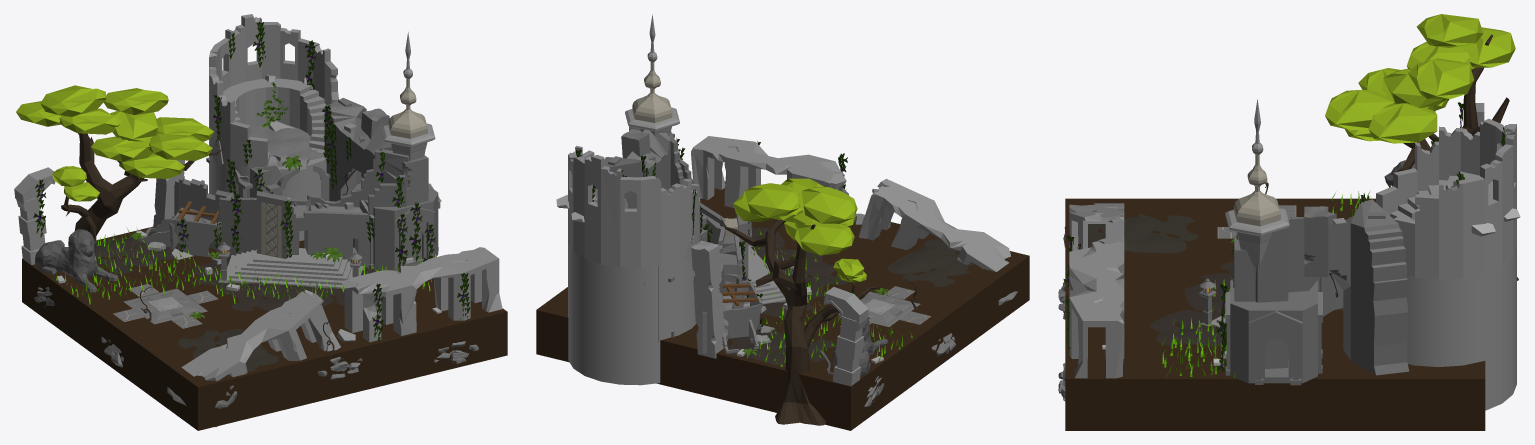
The model's file is Ruins.fbx.
3 views of the same model, side by side, from view 1: azimuth 30°, elevation 25°; view 2: azimuth 150°, elevation 25°; view 3: azimuth 270°, elevation 25° (orthographic). The views are drawn at different scales.
Visible parts, largest first — view 1: Cube, Prop_Ruins_Building_Fort_Chunk_Large_Stone_01, Prop_Ruins_Building_Tower_Stairs_Stone_01, Prop_Ruins_Bridge_Stone_01, Prop_Ruins_Bridge_Stone_01 (1), Prop_Stairs_Grand_Stone_01, Building_Temple_Stone_Bottom_01, Vegetation_Tree_Trunk_05, Prop_Statue_Lion_01, Building_Temple_Indian_Top_03, Prop_Ruins_Building_Hovel_Stone_Timber_01, Cylinder (+25 smaller); view 2: Cube, Cylinder, Prop_Ruins_Building_Tower_Stairs_Stone_01, Vegetation_Tree_Trunk_05, Prop_Ruins_Bridge_Stone_01 (1), Prop_Ruins_Bridge_Stone_01, Prop_Ruins_Building_Fort_Chunk_Large_Stone_01, Prop_Ruins_Archway_Stone_Half_01, Terrain_Plane_Rock_Uneven_02 (1), Building_Temple_Indian_Top_03, Prop_Ruins_Building_Hovel_Stone_Timber_01, Vegetation_Modular_Tree_Foliage_Clump_Small_04 (7) (+11 smaller); view 3: Cube, Prop_Ruins_Building_Tower_Stairs_Stone_01, Prop_Ruins_Building_Fort_Chunk_Large_Stone_01, Cylinder, Building_Temple_Stone_Bottom_01, Prop_Ruins_Bridge_Stone_01, Building_Temple_Indian_Top_03, Terrain_Plane_Rock_Uneven_02 (1), Vegetation_Modular_Tree_Foliage_Clump_Small_04 (3), Vegetation_Modular_Tree_Foliage_Clump_Small_04 (9), Vegetation_Modular_Tree_Foliage_Clump_Small_04 (2), Terrain_Plane_Rock_Uneven_02 (+12 smaller).
Boxes of the visible parts, x1=… form: Cube: x1=22, y1=226, x2=507, y2=430; Prop_Ruins_Building_Fort_Chunk_Large_Stone_01: x1=174, y1=98, x2=409, y2=267; Prop_Ruins_Building_Tower_Stairs_Stone_01: x1=209, y1=14, x2=338, y2=167; Prop_Ruins_Bridge_Stone_01: x1=344, y1=247, x2=502, y2=342; Prop_Ruins_Bridge_Stone_01 (1): x1=181, y1=291, x2=340, y2=427; Prop_Stairs_Grand_Stone_01: x1=226, y1=248, x2=363, y2=288; Building_Temple_Stone_Bottom_01: x1=354, y1=183, x2=441, y2=271; Vegetation_Tree_Trunk_05: x1=61, y1=133, x2=225, y2=248; Prop_Statue_Lion_01: x1=35, y1=229, x2=118, y2=292; Building_Temple_Indian_Top_03: x1=381, y1=32, x2=435, y2=160; Prop_Ruins_Building_Hovel_Stone_Timber_01: x1=139, y1=201, x2=221, y2=256; Cylinder: x1=209, y1=141, x2=326, y2=240; Cube: x1=536, y1=181, x2=1029, y2=430; Cylinder: x1=568, y1=238, x2=700, y2=385; Prop_Ruins_Building_Tower_Stairs_Stone_01: x1=568, y1=145, x2=700, y2=267; Vegetation_Tree_Trunk_05: x1=720, y1=217, x2=883, y2=425; Prop_Ruins_Bridge_Stone_01 (1): x1=859, y1=180, x2=1010, y2=271; Prop_Ruins_Bridge_Stone_01: x1=691, y1=136, x2=848, y2=207; Prop_Ruins_Building_Fort_Chunk_Large_Stone_01: x1=604, y1=126, x2=748, y2=353; Prop_Ruins_Archway_Stone_Half_01: x1=823, y1=287, x2=868, y2=385; Terrain_Plane_Rock_Uneven_02 (1): x1=887, y1=239, x2=974, y2=286; Building_Temple_Indian_Top_03: x1=625, y1=14, x2=679, y2=136; Prop_Ruins_Building_Hovel_Stone_Timber_01: x1=720, y1=280, x2=762, y2=353; Vegetation_Modular_Tree_Foliage_Clump_Small_04 (7): x1=798, y1=187, x2=857, y2=223; Cube: x1=1065, y1=198, x2=1485, y2=430; Prop_Ruins_Building_Tower_Stairs_Stone_01: x1=1376, y1=118, x2=1516, y2=279; Prop_Ruins_Building_Fort_Chunk_Large_Stone_01: x1=1233, y1=199, x2=1409, y2=375; Cylinder: x1=1407, y1=247, x2=1516, y2=410; Building_Temple_Stone_Bottom_01: x1=1225, y1=280, x2=1322, y2=385; Prop_Ruins_Bridge_Stone_01: x1=1069, y1=241, x2=1124, y2=378; Building_Temple_Indian_Top_03: x1=1225, y1=99, x2=1289, y2=277; Terrain_Plane_Rock_Uneven_02 (1): x1=1088, y1=214, x2=1198, y2=253; Vegetation_Modular_Tree_Foliage_Clump_Small_04 (3): x1=1368, y1=103, x2=1437, y2=143; Vegetation_Modular_Tree_Foliage_Clump_Small_04 (9): x1=1408, y1=58, x2=1474, y2=99; Vegetation_Modular_Tree_Foliage_Clump_Small_04 (2): x1=1325, y1=90, x2=1393, y2=130; Terrain_Plane_Rock_Uneven_02: x1=1149, y1=309, x2=1226, y2=346.
Bounding box in the file's own units: 11.28 × 9.01 × 11.5.
